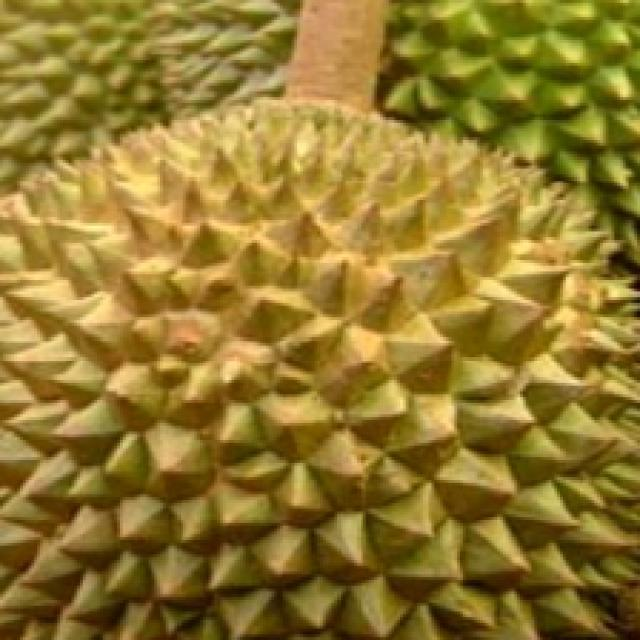d24: (13, 11, 640, 625)
